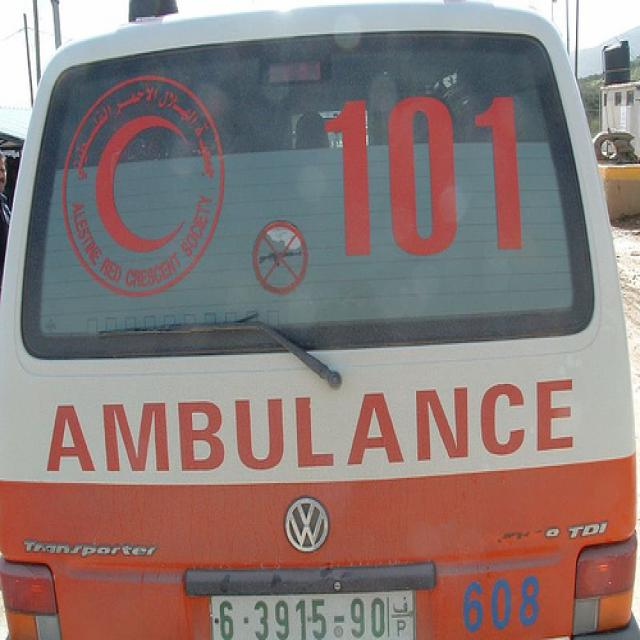emergency-vehicle: (2, 11, 638, 638)
